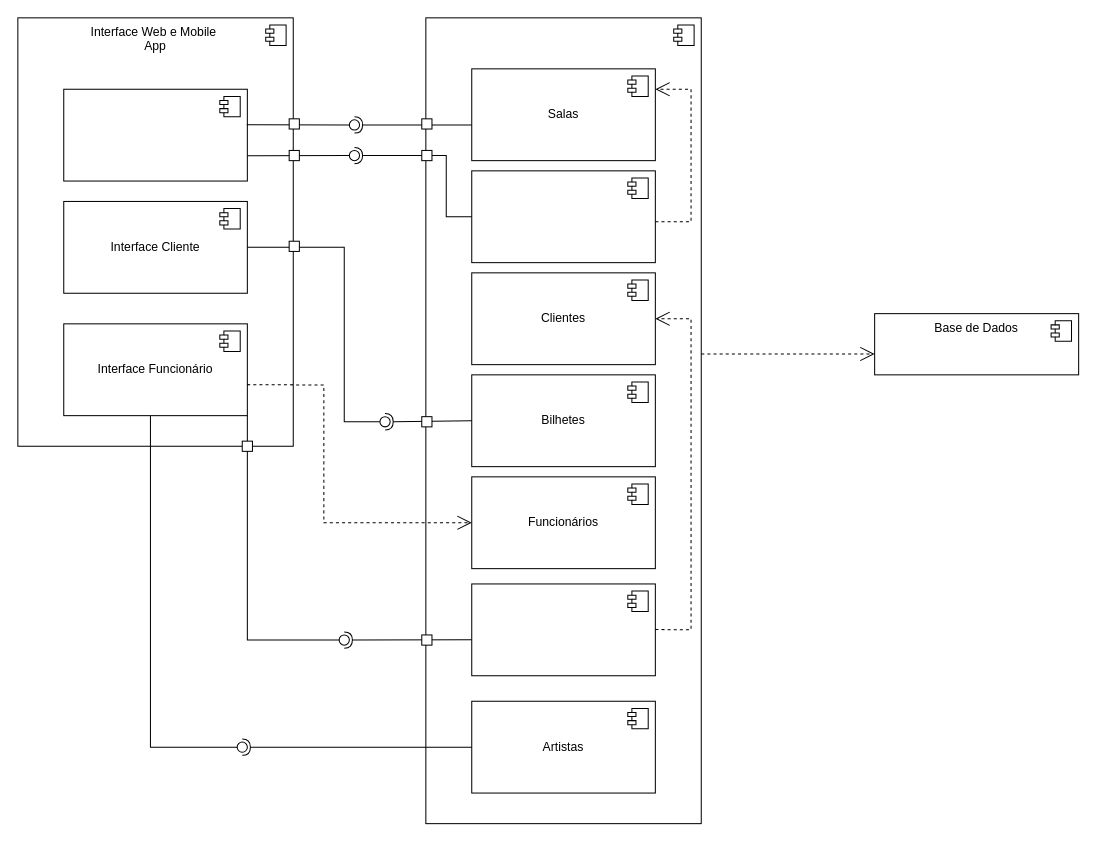
The diagram is 1097 pixels wide and 842 high, and some of its shapes have lost their labels. Here are the shapes that lost their labels. From the top down, the box of each, then its label:
(63, 88, 247, 181): Interface Pública
(471, 170, 655, 263): Programação Cultural
(425, 17, 701, 824): Sistema de API
(471, 583, 655, 676): Estatísticas
